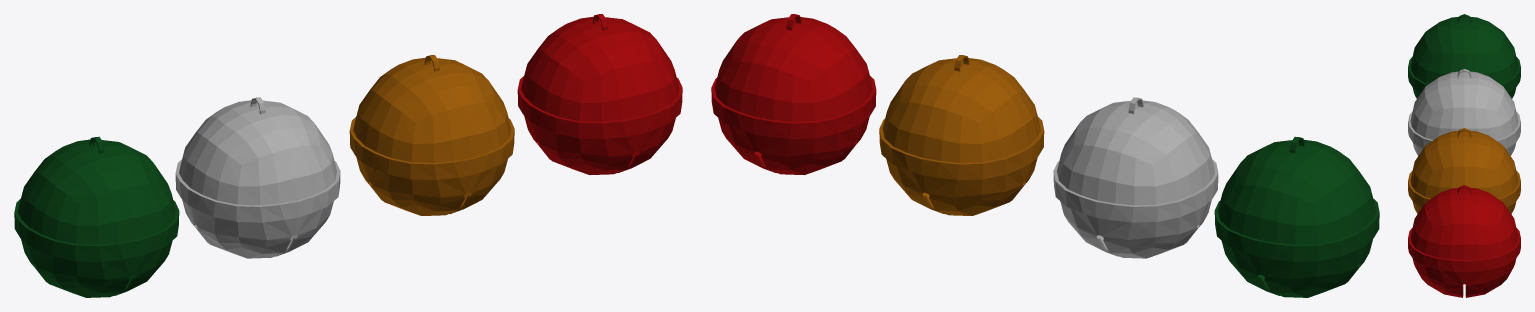
The model's file is jingleBell.obj.
3 renders of one model, left to right at view 1: azimuth 30°, elevation 25°; view 2: azimuth 150°, elevation 25°; view 3: azimuth 270°, elevation 25°, orthographic. The views are drawn at different scales.
Size of the model in its own units: 4.17 by 0.9411 by 0.9075.
